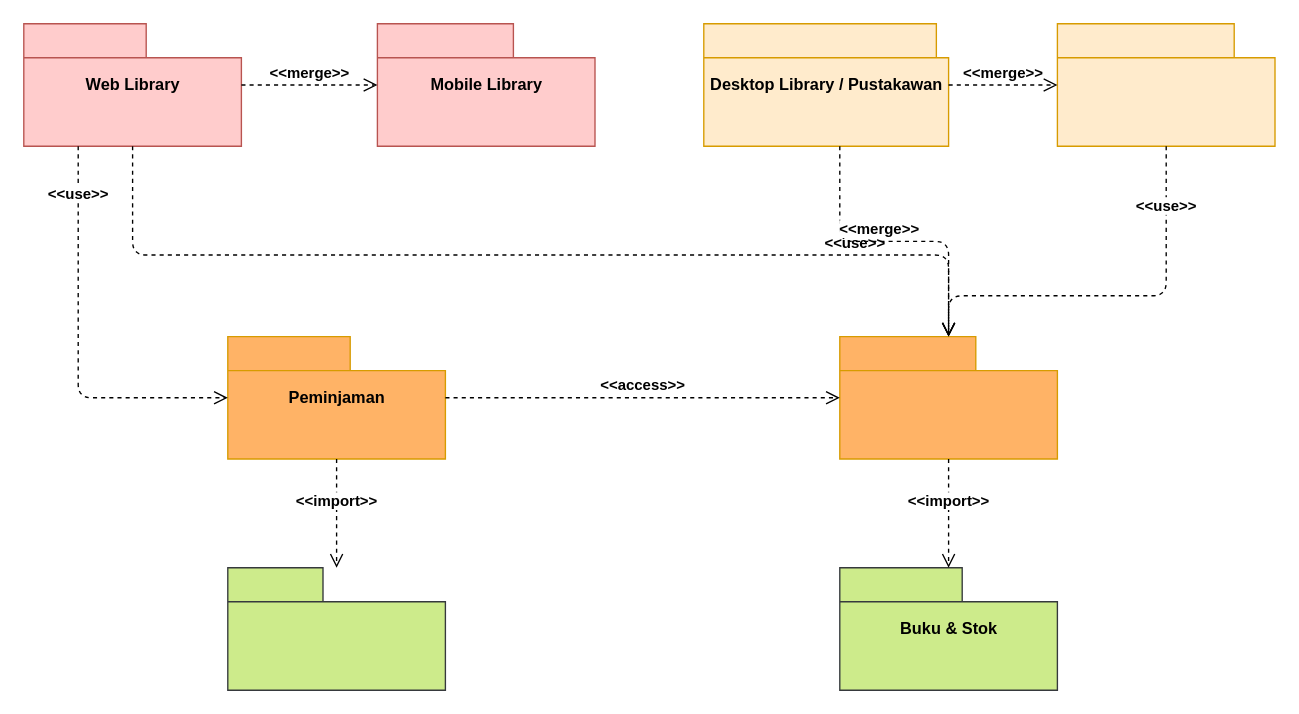
This 1299x714 diagram has some shape labels left out. Here are the shapes that lost their labels. From the top down, the box of each, then its label:
(1056, 22, 1275, 146): Admin Dashboard
(838, 335, 1057, 459): Katalog Buku
(226, 566, 445, 690): Anggota
